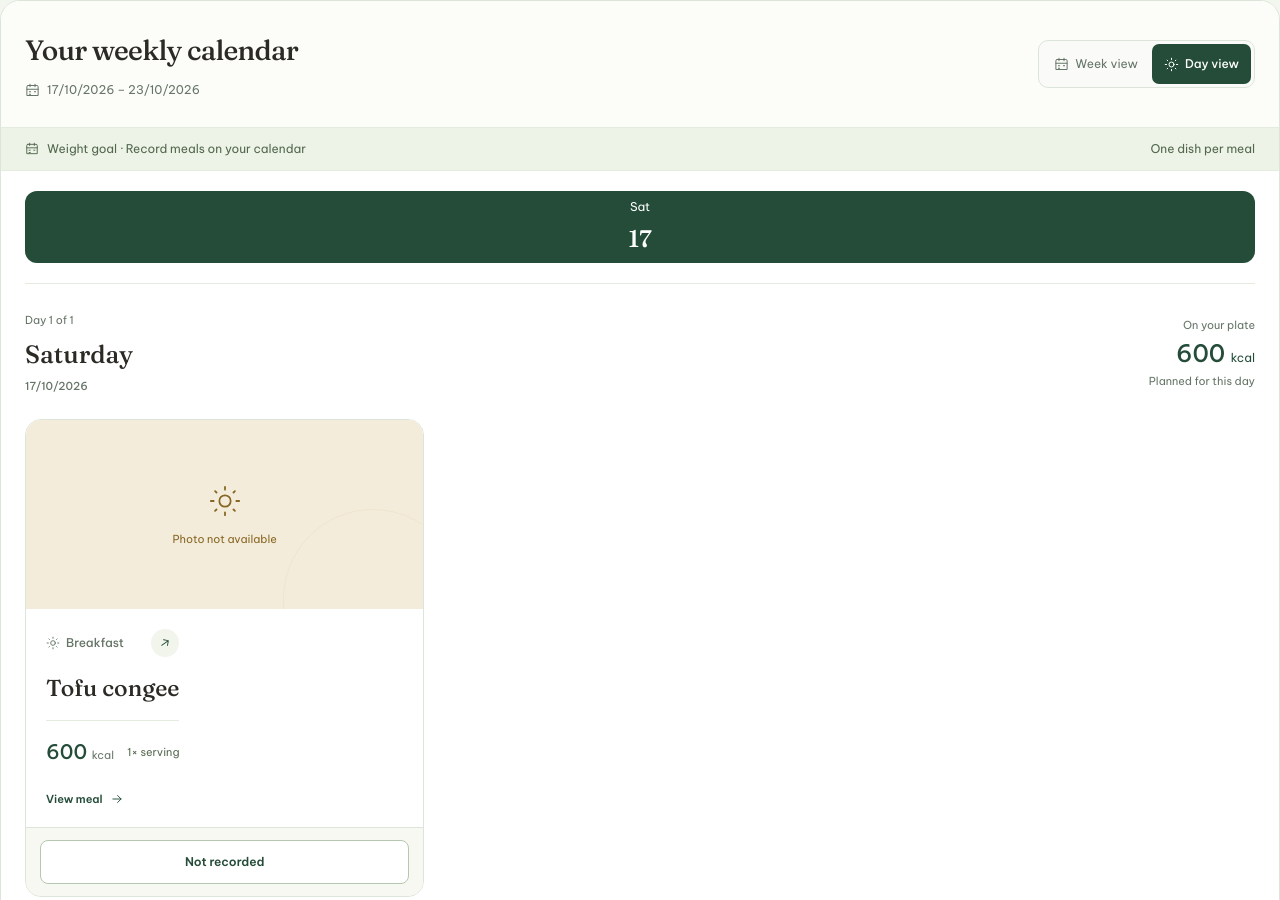
failed save keeps the old status and shows the error on the calendar
The image size is (1280, 900).
Click the button with class "wm-follow-button". click: (225, 862)
box: [40,840,409,884]
(page scrolled)
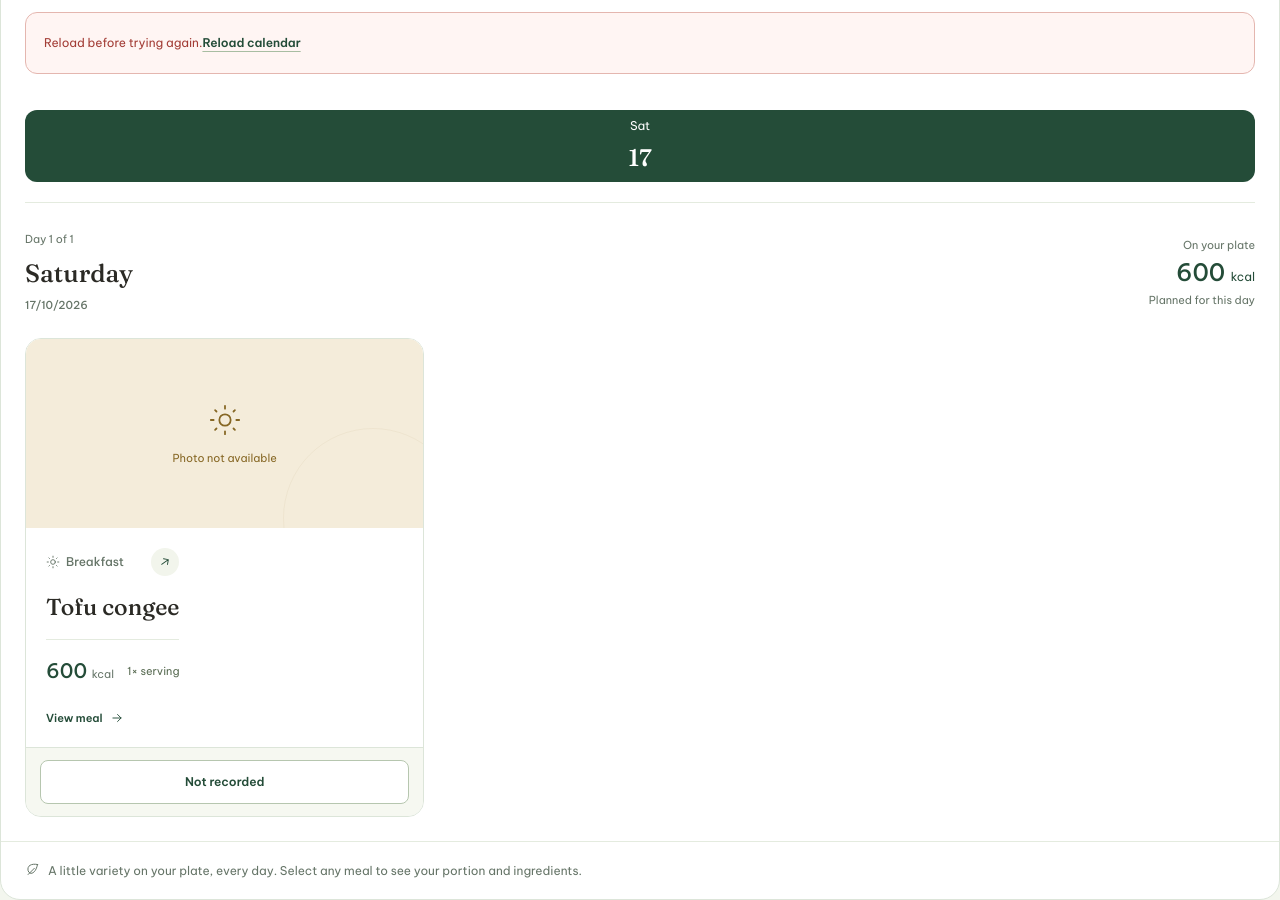
Check: the text "Reload before trying again." is shown, box [44,35,202,50]
